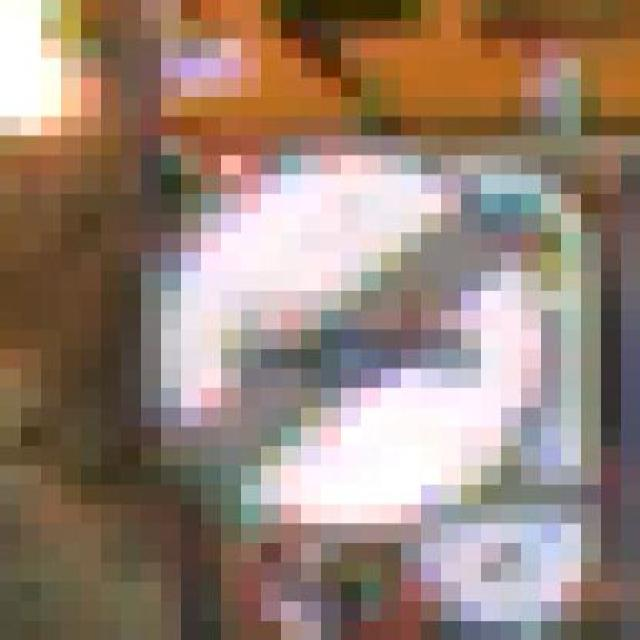No_Over_Taking: (80, 116, 600, 582)
